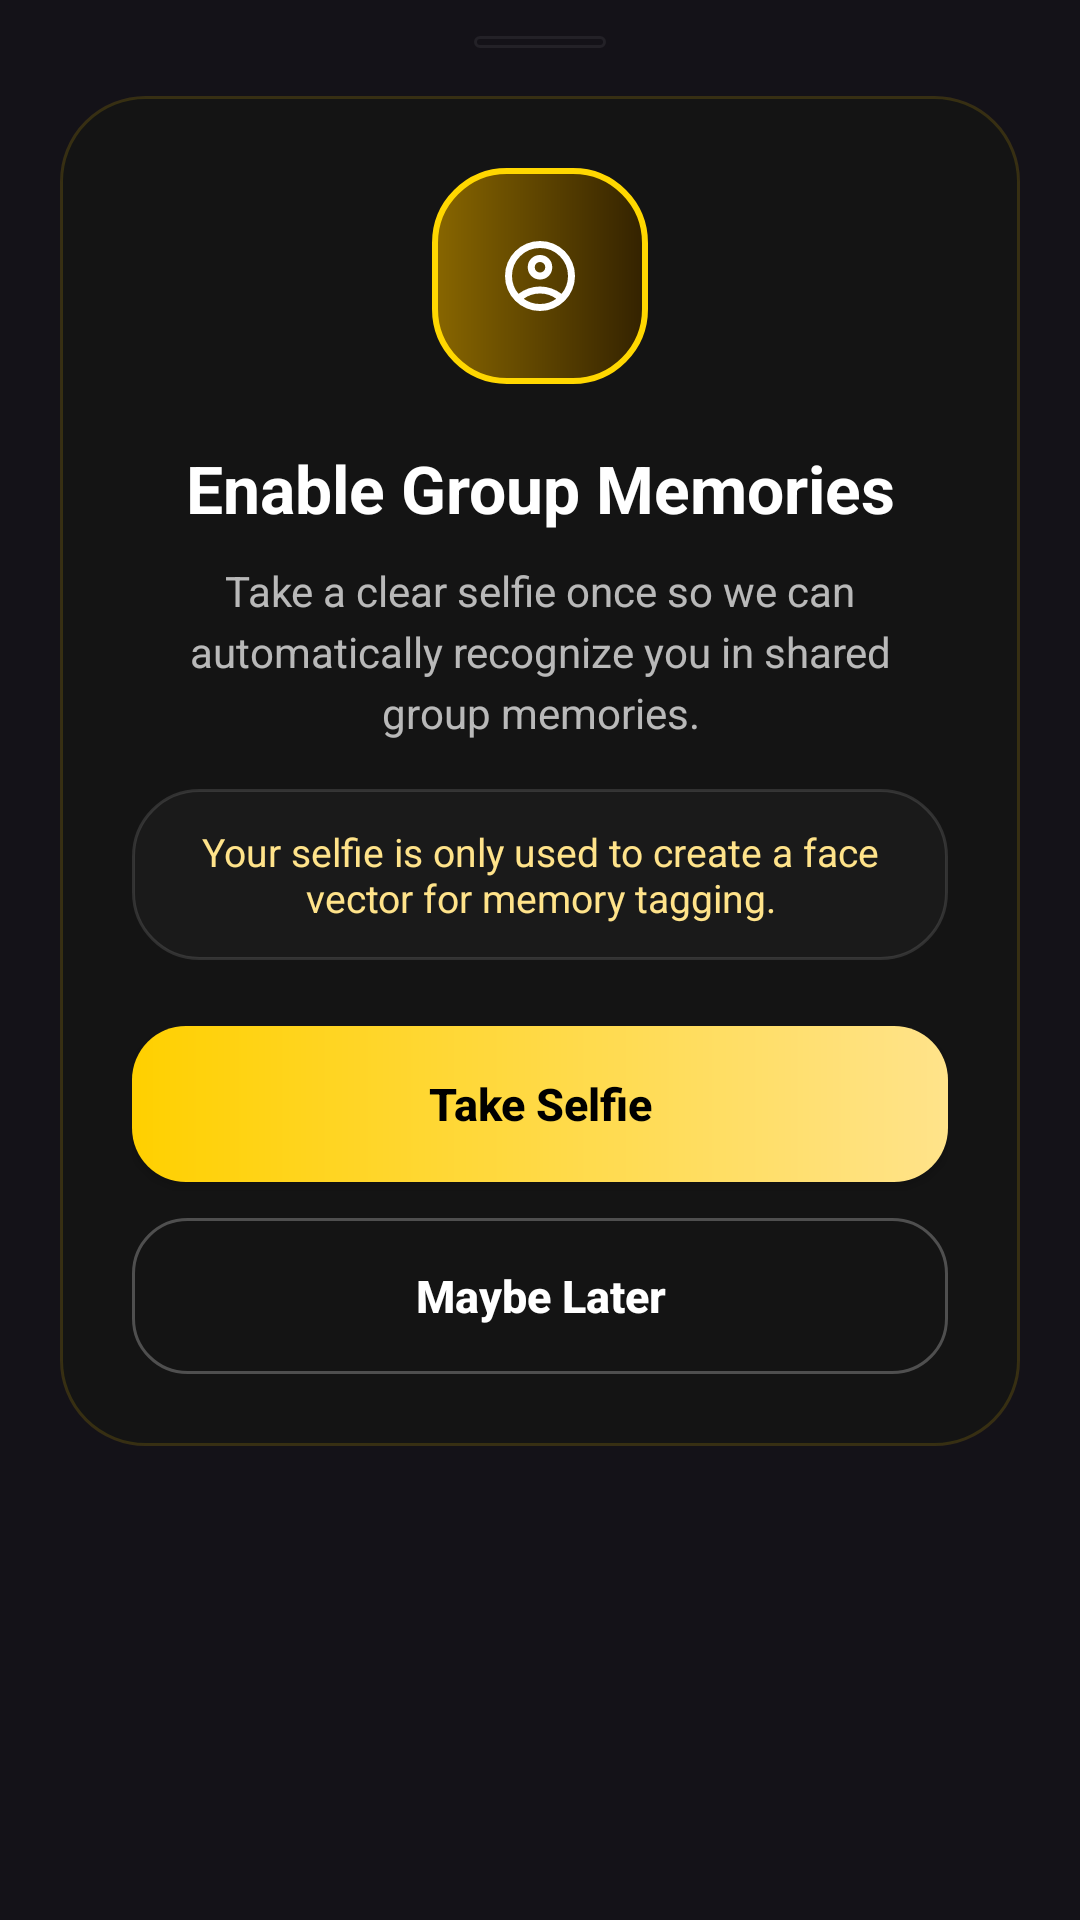

Where to tap for icons on this 1080 × 1920 app screen, as [x,y]:
account circle: [540,276]
